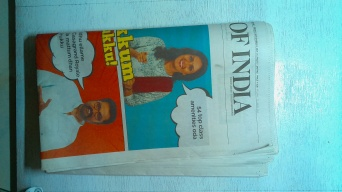p: (30, 19, 280, 178)
